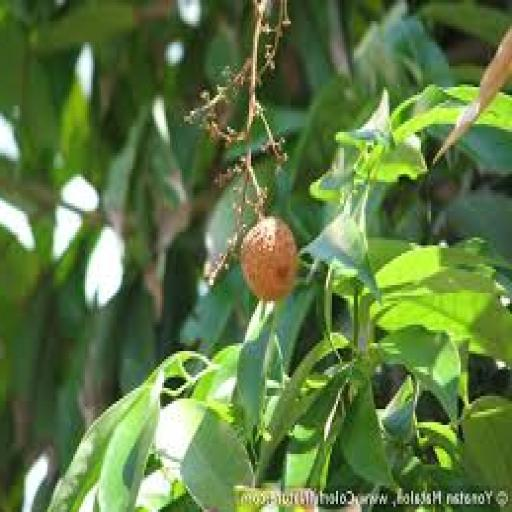lychee: (241, 217, 297, 300)
